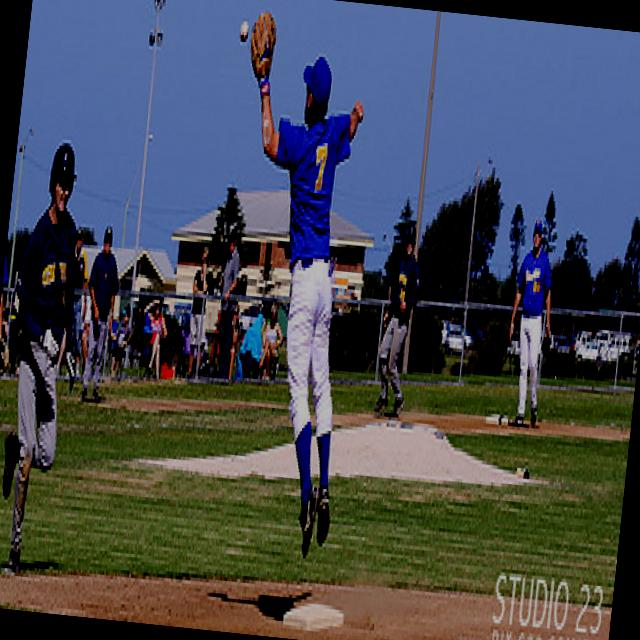Vehicle: (575, 340, 609, 364), (444, 325, 464, 356), (554, 337, 569, 353)
